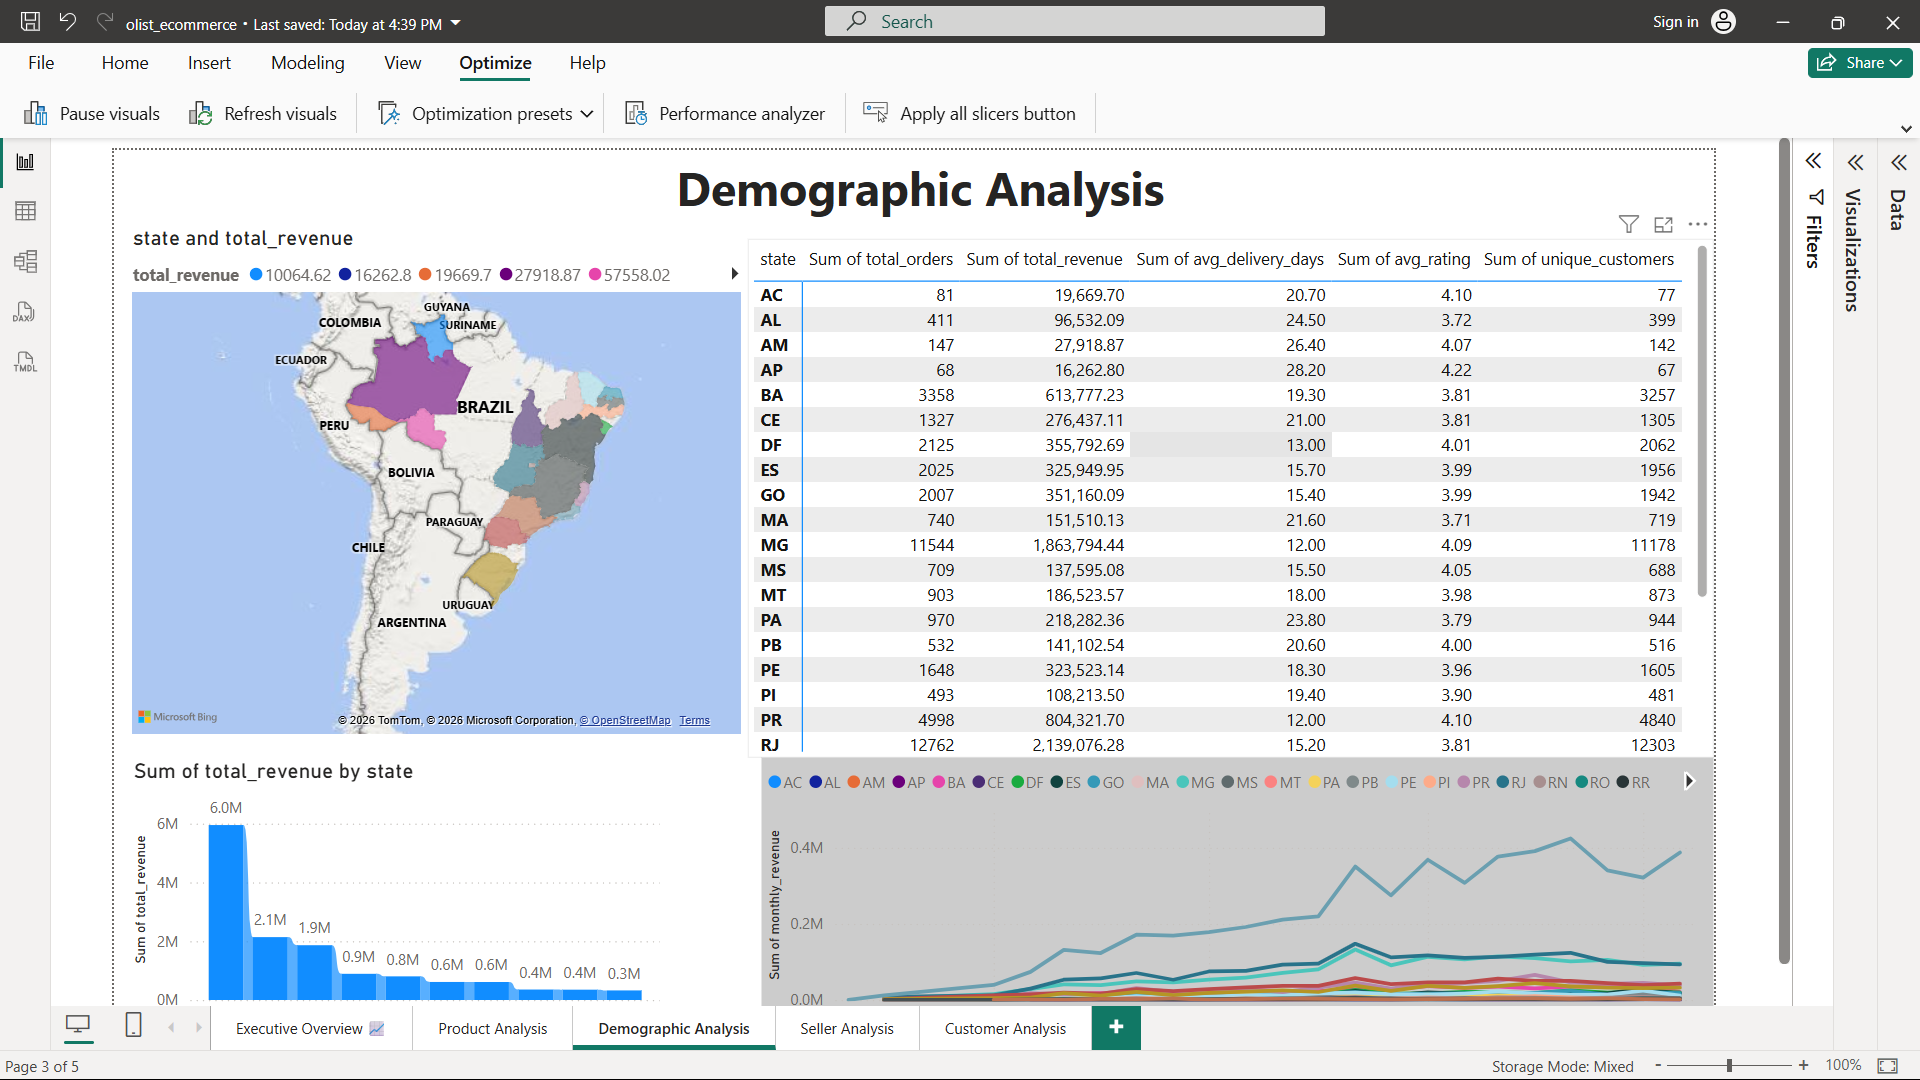

This screenshot's page, from the dashboard's own definition file:
{"tool":"powerbi","page":{"name":"Demographic Analysis","canvas":[1280,720],"ordinal":2},"visuals":[{"type":"textbox","box":[10,0,1270,60],"z":0},{"type":"filledMap","fields":{"Category":["public vw_state_performance.state"],"Series":["public vw_state_performance.total_revenue"]},"box":[10,60,496.7,413.3],"z":1000},{"type":"pivotTable","fields":{"Rows":["public vw_state_performance.state"],"Values":["Sum(public vw_state_performance.total_orders)","Sum(public vw_state_performance.total_revenue)","Sum(public vw_state_performance.avg_delivery_days)","Sum(public vw_state_performance.avg_rating)","Sum(public vw_state_performance.unique_customers)"]},"box":[506.7,71.1,773.3,414.4],"z":2000},{"type":"columnChart","fields":{"Category":["public vw_state_performance.state"],"Y":["Sum(public vw_state_performance.total_revenue)"]},"box":[11.1,485.6,431.1,234.4],"z":3000},{"type":"lineChart","fields":{"Category":["public vw_state_monthly_trends.year_month"],"Y":["Sum(public vw_state_monthly_trends.monthly_revenue)"],"Series":["public vw_state_monthly_trends.state"]},"box":[518,486,762,234],"z":4000}]}

Visuals, with their boxes on the page's 1280x720 design canvas (x1, y1, x2, y2). These are canvas units, not pixel positions in the 1920x1080 screenshot, which may show the page scaled, cropped or inside an application window:
textbox: [10, 0, 1280, 60]
filledMap - public vw_state_performance.state x public vw_state_performance.total_revenue: [10, 60, 507, 473]
pivotTable - public vw_state_performance.state x Sum(public vw_state_performance.total_orders): [507, 71, 1280, 486]
columnChart - public vw_state_performance.state x Sum(public vw_state_performance.total_revenue): [11, 486, 442, 720]
lineChart - public vw_state_monthly_trends.year_month x Sum(public vw_state_monthly_trends.monthly_revenue): [518, 486, 1280, 720]
